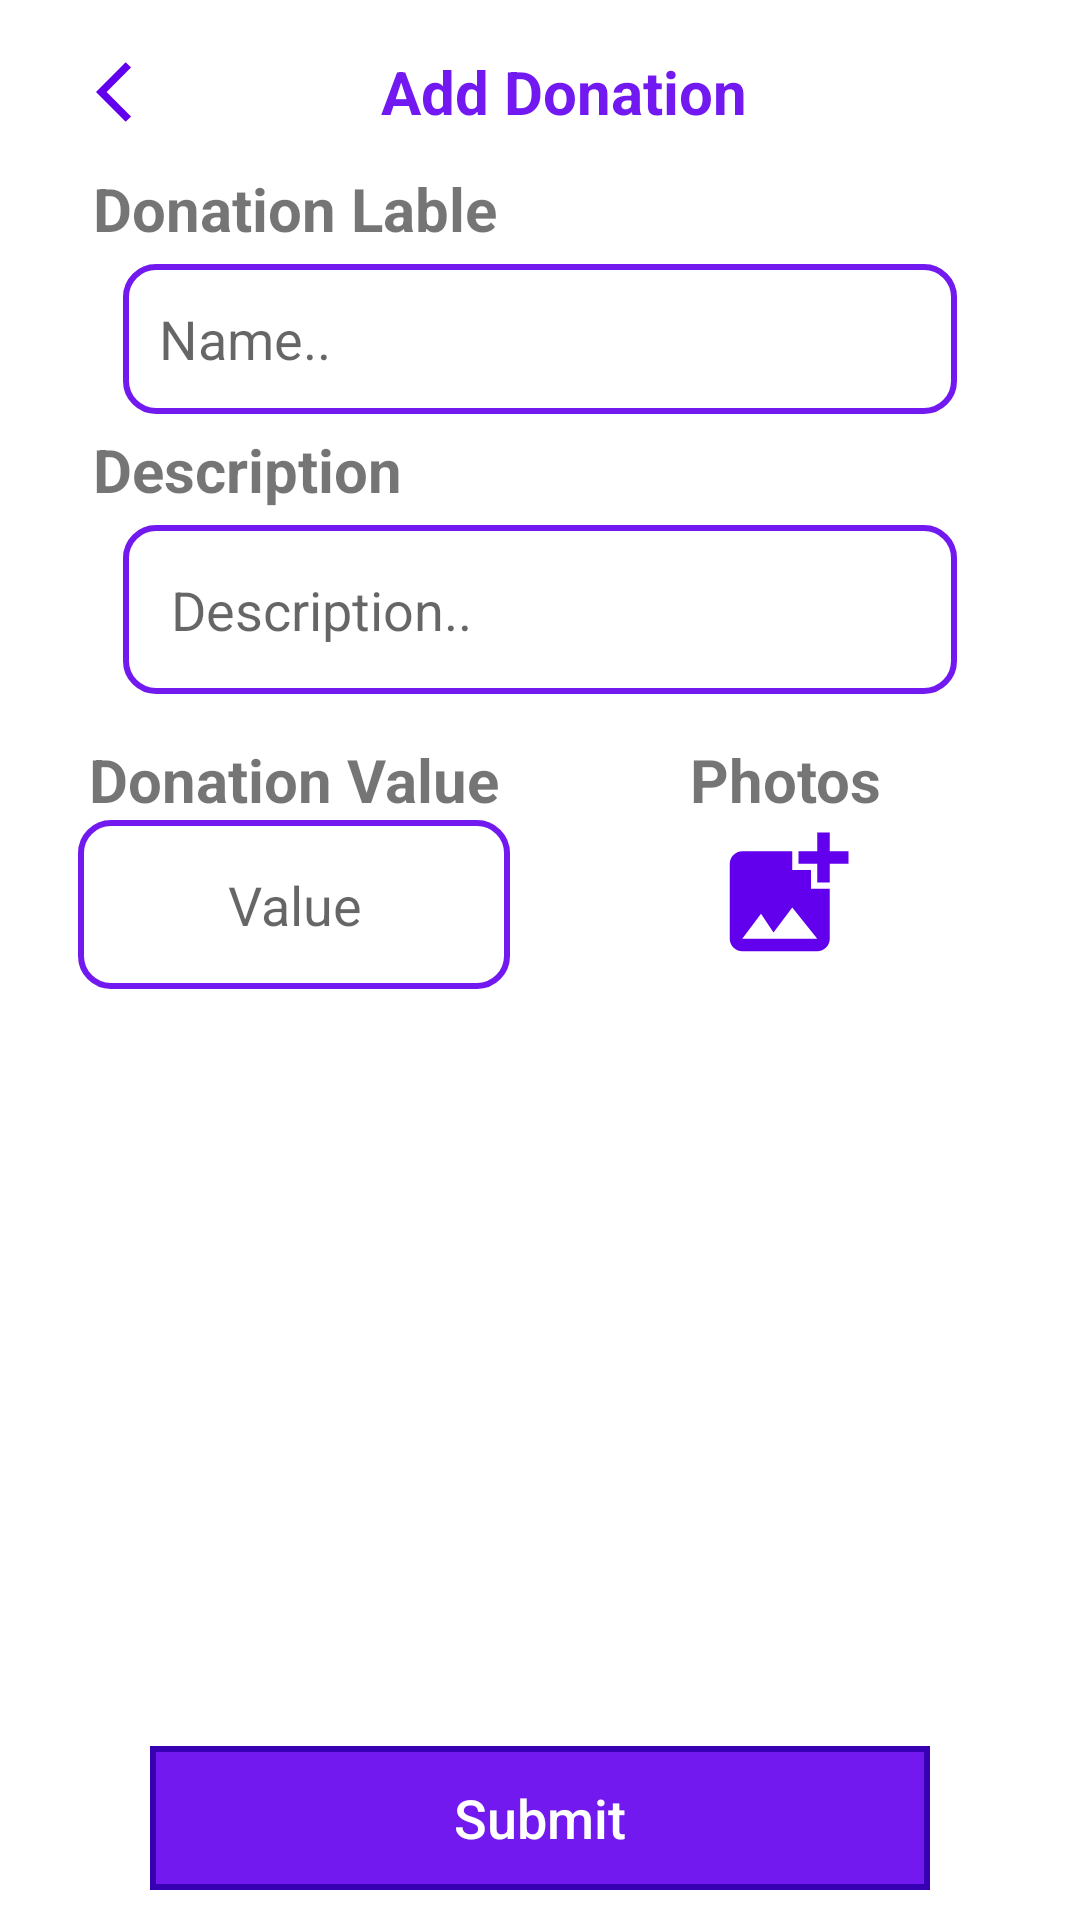

Screen size 1080 × 1920. Icon name, then its box in pixels as {"left": x1, "top": y1, "right": x2, "bottom": y2}:
add photo alternate: {"left": 729, "top": 832, "right": 849, "bottom": 952}
arrow back: {"left": 96, "top": 62, "right": 131, "bottom": 122}
